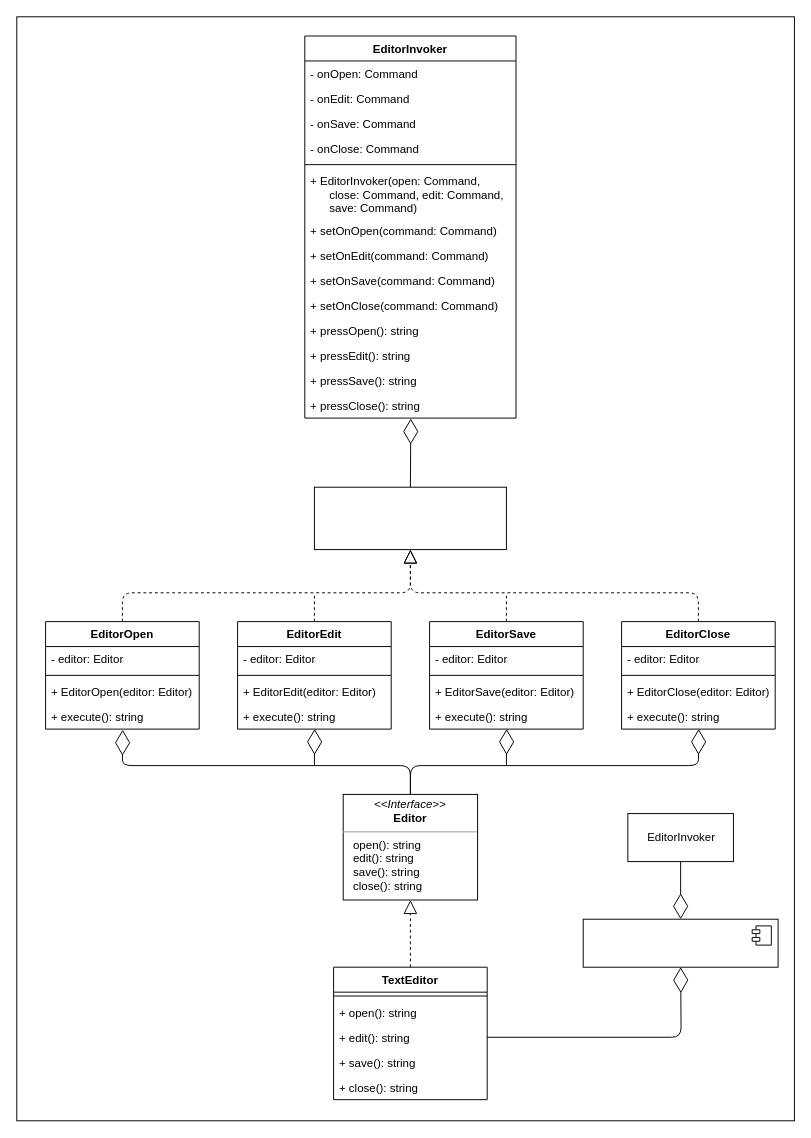
This 811x1138 diagram has some shape labels left out. Here are the shapes that lost their labels. From the top down, the centre of each, then its label:
At (x=409, y=518): "<<Interface>> Command execute(): string".
At (x=680, y=942): "Command.component".
